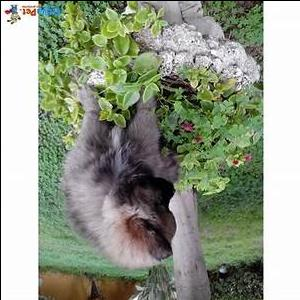dog: (60, 74, 180, 270)
